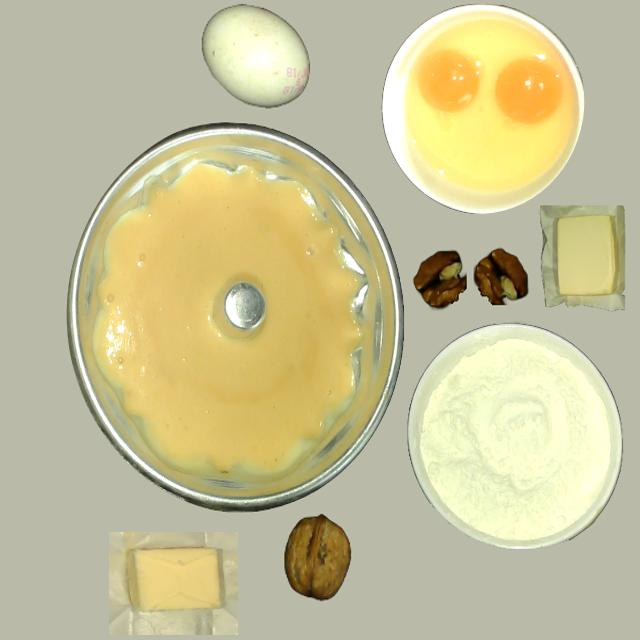Egg: (496, 58, 562, 124), (419, 49, 482, 112)
Flour: (406, 325, 622, 551)
Walnut: (284, 515, 350, 598)
